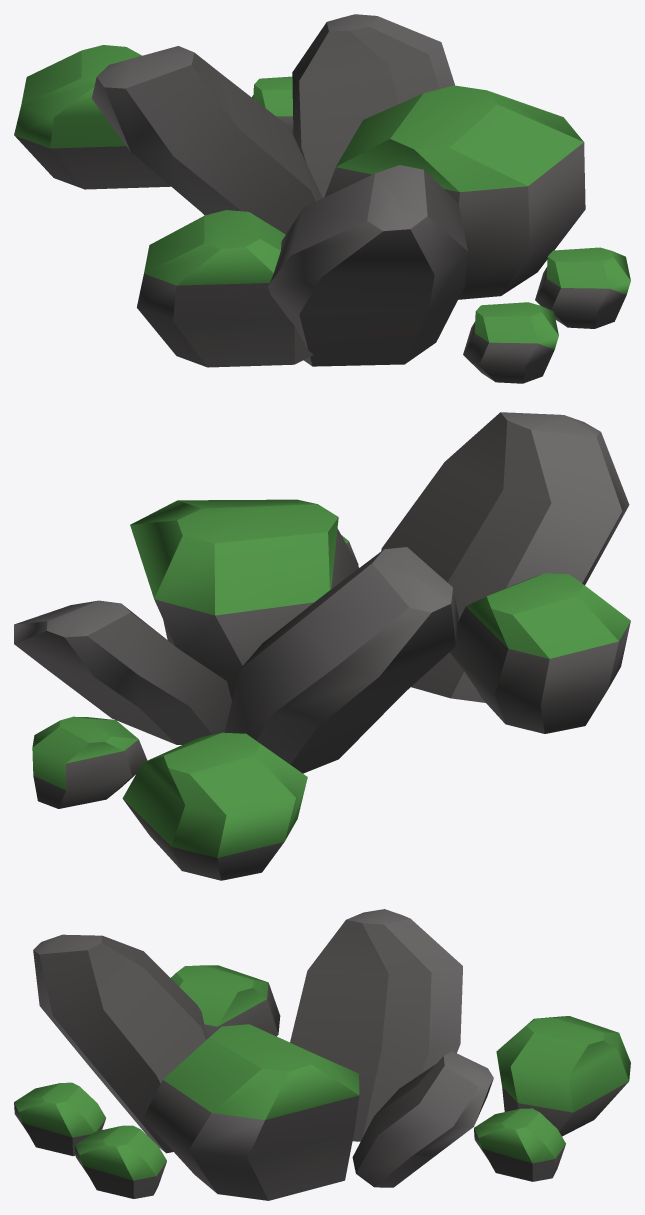
File: Rocks2.fbx
3 views of the same model, one above another, from view 1: azimuth 30°, elevation 25°; view 2: azimuth 150°, elevation 25°; view 3: azimuth 270°, elevation 25° (orthographic). The views are drawn at different scales.
Parts seen in each view (by area): view 1: polySurface7; view 2: polySurface7; view 3: polySurface7.
Part boxes in pixels (x1,y1,x2,y2): polySurface7: (14,14,630,383); polySurface7: (14,412,630,880); polySurface7: (14,909,630,1200).
Bounding box in the file's own units: 331 × 166 × 492.
